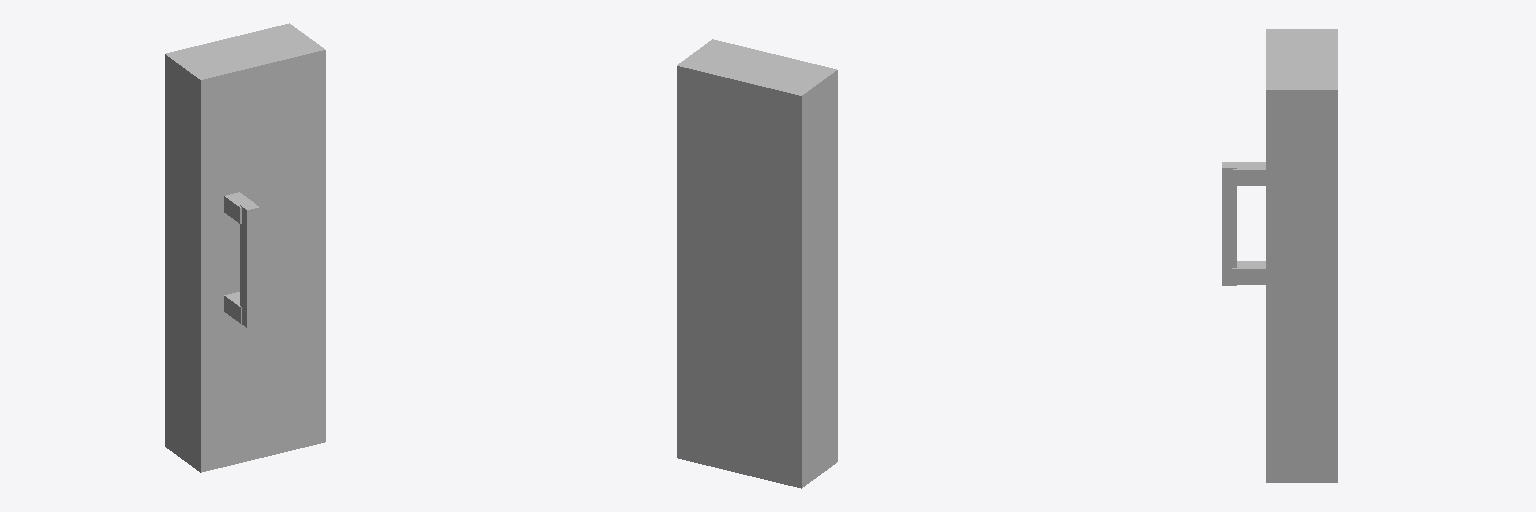
File: fridgedoor.obj
The picture shows the model from 3 angles: view 1: azimuth 30°, elevation 25°; view 2: azimuth 150°, elevation 25°; view 3: azimuth 270°, elevation 25°; orthographic projection.
Visible parts, largest first — view 1: Cube.002; view 2: Cube.002; view 3: Cube.002.
Part boxes in pixels (x1,y1,x2,y2): Cube.002: (165,23,325,472); Cube.002: (677,39,837,488); Cube.002: (1222,29,1337,482).
Size of the model in its own units: 2 by 6 by 1.6.